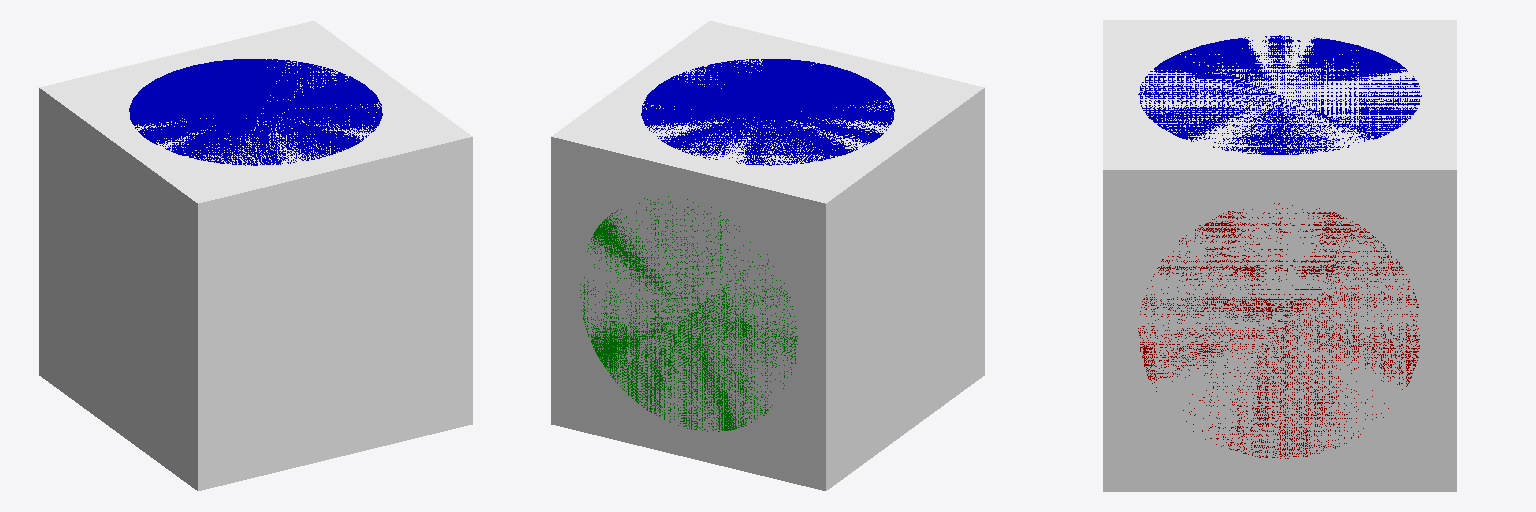
The robot description file, URDF, robot "cubli":
<?xml version="1.0" ?>
<!-- =================================================================================== -->
<!-- |    This document was autogenerated by xacro from cubli.xacro                    | -->
<!-- |    EDITING THIS FILE BY HAND IS NOT RECOMMENDED                                 | -->
<!-- =================================================================================== -->
<!-- Revolute-Revolute Manipulator -->
<robot name="cubli" xmlns:xacro="http://www.ros.org/wiki/xacro">
    <!-- Space btw top of beam and the each joint -->


    <material name="black">
        <color rgba="0.0 0.0 0.0 1.0"/>
    </material>
    <material name="blue">
        <color rgba="0.0 0.0 0.8 1.0"/>
    </material>
    <material name="green">
        <color rgba="0.0 0.8 0.0 1.0"/>
    </material>
    <material name="grey">
        <color rgba="0.2 0.2 0.2 1.0"/>
    </material>
    <material name="orange">
        <color rgba="1.0 0.423529411765 0.0392156862745 1.0"/>
    </material>
    <material name="brown">
        <color rgba="0.870588235294 0.811764705882 0.764705882353 1.0"/>
    </material>
    <material name="red">
        <color rgba="0.8 0.0 0.0 1.0"/>
    </material>
    <material name="white">
        <color rgba="1.0 1.0 1.0 1.0"/>
    </material>

    <link name="cube">
        <inertial>
            <origin rpy="0 0 0" xyz="0 0 0"/>
            <mass value="1.0"/>
            <inertia ixx="0.166667" ixy="0.0" ixz="0.0" iyy="0.166667" iyz="0.0" izz="0.166667"/>
        </inertial>
        <visual>
            <origin rpy="0 0 0" xyz="0 0 0"/>
            <geometry>
                <box size="1.0 1.0 1.0"/>
            </geometry>
            <material name="white"/>
        </visual>
        <collision>
            <origin rpy="0 0 0" xyz="0 0 0"/>
            <geometry>
                <box size="1.0 1.0 1.0"/>
            </geometry>
        </collision>
    </link>
    <link name="wheel_x">
        <inertial>
            <origin rpy="0 0 0" xyz="0 0 0"/>
            <mass value="1.0"/>
            <inertia ixx="0.04020833333333334" ixy="0.0" ixz="0.0" iyy="0.04020833333333334" iyz="0.0" izz="0.08"/>
        </inertial>
        <visual>
            <origin rpy="0 0 0" xyz="0 0 0"/>
            <geometry>
                <cylinder length="0.05" radius="0.4"/>
            </geometry>
            <material name="red"/>
        </visual>
        <collision>
            <origin xyz="0 0 0" rpy="0 0 0"/>
            <geometry>
                <cylinder length="0.05" radius="0.4"/>
            </geometry>
        </collision>
    </link>
    <link name="wheel_y">
        <inertial>
            <origin rpy="0 0 0" xyz="0 0 0"/>
            <mass value="1.0"/>
            <inertia ixx="0.04020833333333334" ixy="0.0" ixz="0.0" iyy="0.04020833333333334" iyz="0.0" izz="0.08"/>
        </inertial>
        <visual>
            <origin rpy="0 0 0" xyz="0 0 0"/>
            <geometry>
                <cylinder length="0.05" radius="0.4"/>
            </geometry>
            <material name="green"/>
        </visual>
        <collision>
            <origin xyz="0 0 0" rpy="0 0 0"/>
            <geometry>
                <cylinder length="0.05" radius="0.4"/>
            </geometry>
        </collision>
    </link>
    <link name="wheel_z">
        <inertial>
            <origin rpy="0 0 0" xyz="0 0 0"/>
            <mass value="1.0"/>
            <inertia ixx="0.04020833333333334" ixy="0.0" ixz="0.0" iyy="0.04020833333333334" iyz="0.0" izz="0.08"/>
        </inertial>
        <visual>
            <origin rpy="0 0 0" xyz="0 0 0"/>
            <geometry>
                <cylinder length="0.05" radius="0.4"/>
            </geometry>
            <material name="blue"/>
        </visual>
        <collision>
            <origin xyz="0 0 0" rpy="0 0 0"/>
            <geometry>
                <cylinder length="0.05" radius="0.4"/>
            </geometry>
        </collision>
    </link>
    <joint name="joint_x" type="continuous">
        <parent link="cube"/>
        <child link="wheel_x"/>
        <origin rpy="0 1.57079632679 0" xyz="0.475 0 0"/>
        <axis xyz="0 0 1"/>
        <dynamics damping="0.7"/>
    </joint>
    <joint name="joint_y" type="continuous">
        <parent link="cube"/>
        <child link="wheel_y"/>
        <origin rpy="-1.57079632679 0 0" xyz="0 0.475 0"/>
        <axis xyz="0 0 1"/>
        <dynamics damping="0.7"/>
    </joint>
    <joint name="joint_z" type="continuous">
        <parent link="cube"/>
        <child link="wheel_z"/>
        <origin rpy="0 0 0" xyz="0 0 0.475"/>
        <axis xyz="0 0 1"/>
        <dynamics damping="0.7"/>
    </joint>

</robot>

--- What the picture shows (computed from the rendered views, not written in the file) ---
3 views of the same robot in one strip: view 1: azimuth 30°, elevation 25°; view 2: azimuth 150°, elevation 25°; view 3: azimuth 270°, elevation 25° (orthographic).
Model cubli with 4 links and 3 joints (3 continuous), rooted at cube, posed all joints at 0.
Visible links, largest first — view 1: cube, wheel_z; view 2: cube, wheel_z, wheel_y; view 3: cube, wheel_z, wheel_x.
Boxes of the visible links, x1=… form: cube: x1=39, y1=21, x2=472, y2=490; wheel_z: x1=129, y1=59, x2=382, y2=165; cube: x1=551, y1=21, x2=984, y2=490; wheel_z: x1=641, y1=59, x2=894, y2=165; wheel_y: x1=580, y1=196, x2=797, y2=431; cube: x1=1103, y1=20, x2=1456, y2=491; wheel_z: x1=1138, y1=35, x2=1421, y2=154; wheel_x: x1=1138, y1=203, x2=1419, y2=458.
Bounding box of the posed robot: 1 × 1 × 1 m (x, y, z).
Geometry: primitives only (box / cylinder / sphere), no mesh files.